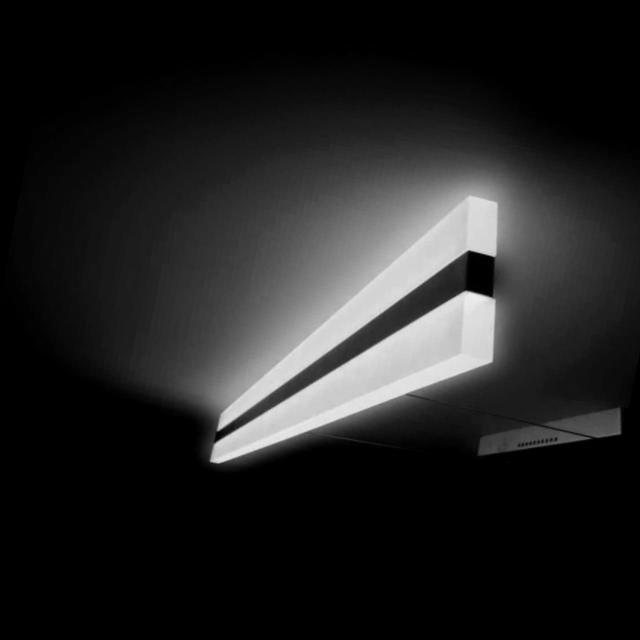light: (207, 193, 498, 465)
